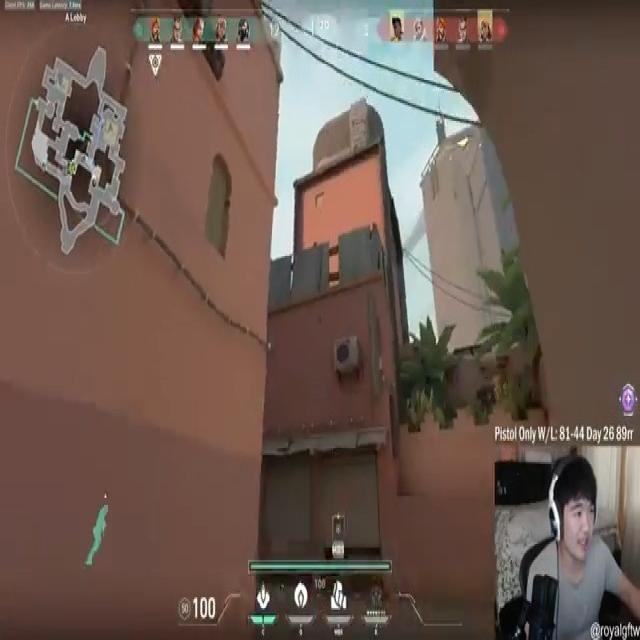ally behind wall: (84, 500, 110, 573)
